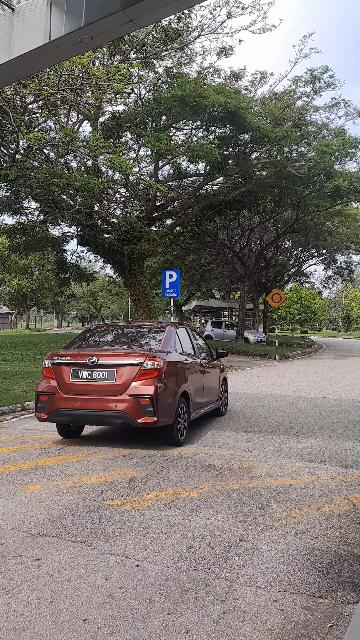License_Plate: (69, 367, 117, 384)
car: (30, 311, 235, 447)
